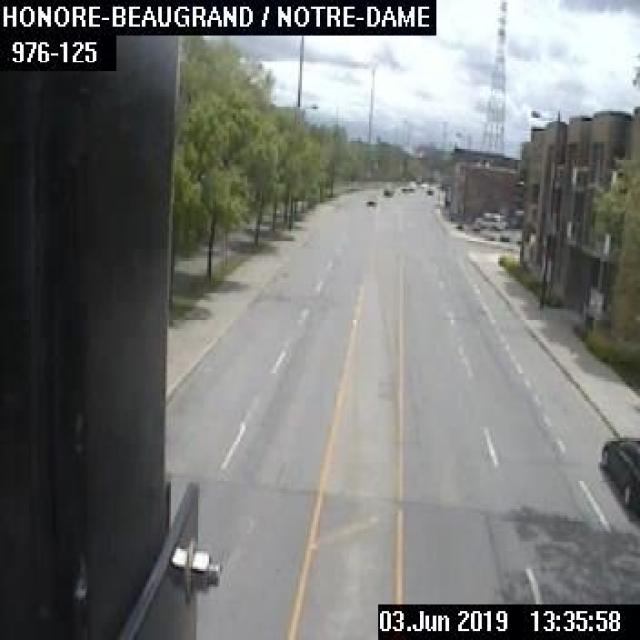vehicle: (598, 434, 638, 512), (473, 210, 504, 229), (381, 182, 393, 195), (363, 197, 377, 206)
